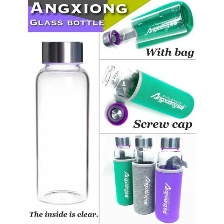bottle: (28, 36, 93, 206), (101, 60, 198, 119), (98, 0, 201, 52), (154, 133, 187, 224), (130, 136, 156, 215), (113, 136, 138, 206)
